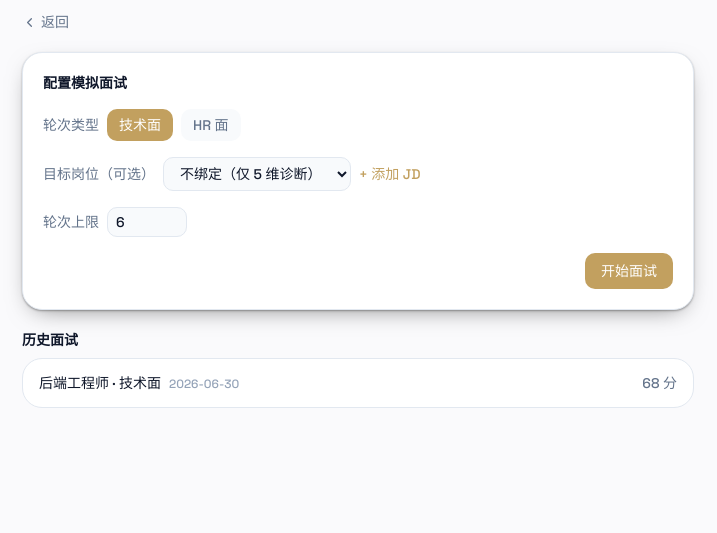
Test: MockInterview › lists past interviews and opens a read-only review
Click the text "后端工程师 · 技术面" at [74, 383], box [39, 374, 161, 392]
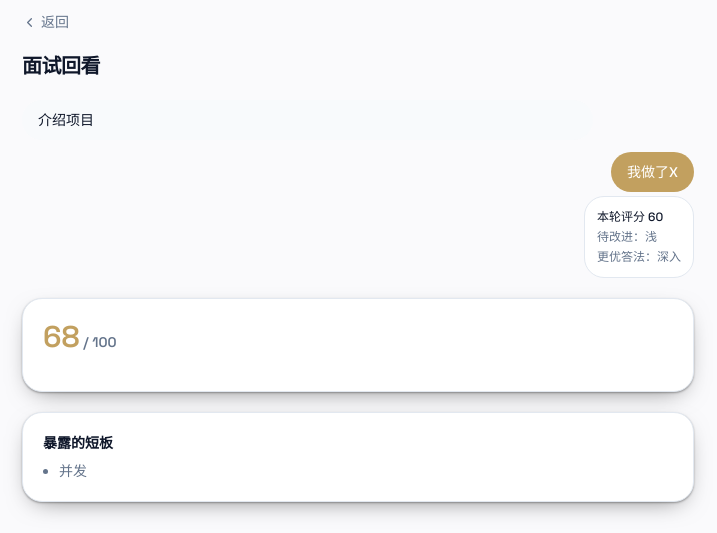
Expected: the heading "面试回看" is shown, [22, 53, 100, 79]
Expected: the text "介绍项目" is shown, [22, 100, 593, 140]
Expected: the text "我做了X" is shown, [611, 152, 694, 192]
